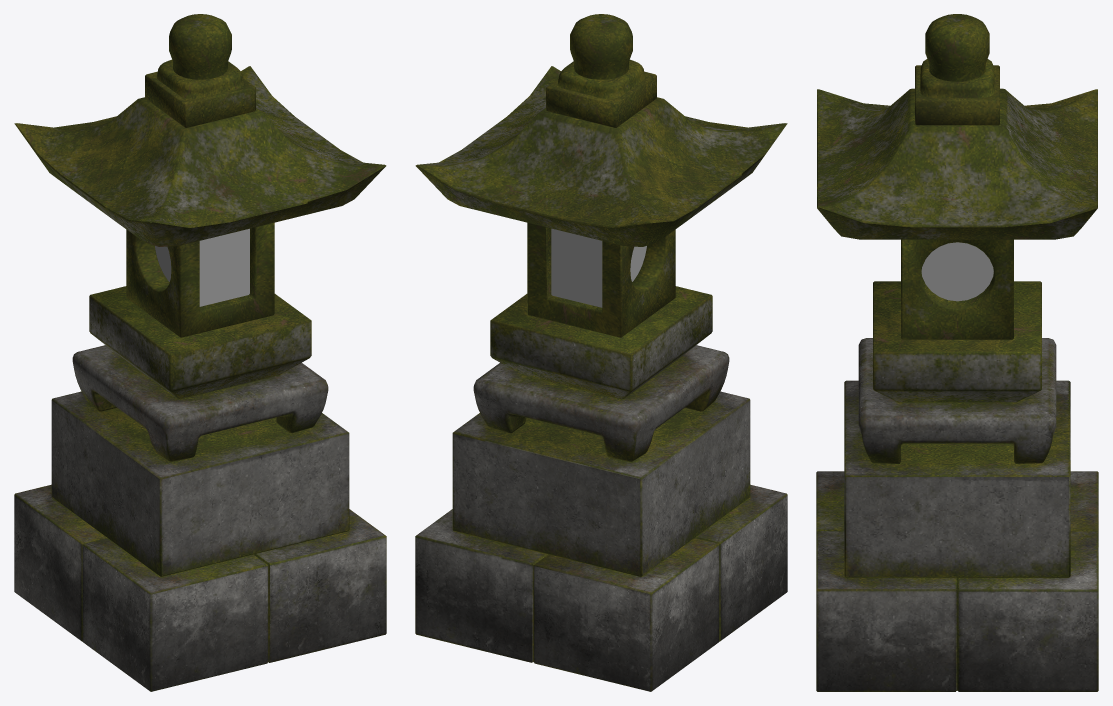
File: Shrine.fbx
3 views of the same model, side by side, from view 1: azimuth 30°, elevation 25°; view 2: azimuth 150°, elevation 25°; view 3: azimuth 270°, elevation 25° (orthographic). The views are drawn at different scales.
Visible parts, largest first — view 1: SM_Lantern_Small, Box005; view 2: SM_Lantern_Small, Box005; view 3: SM_Lantern_Small, Box005.
Part boxes in pixels (box(x1,y1,x2,y2)): SM_Lantern_Small: box(14, 14, 386, 691); Box005: box(155, 228, 249, 306); SM_Lantern_Small: box(415, 14, 787, 691); Box005: box(551, 228, 646, 307); SM_Lantern_Small: box(816, 14, 1098, 691); Box005: box(921, 242, 993, 301).
Bounding box in the file's own units: 50 × 119 × 50.
